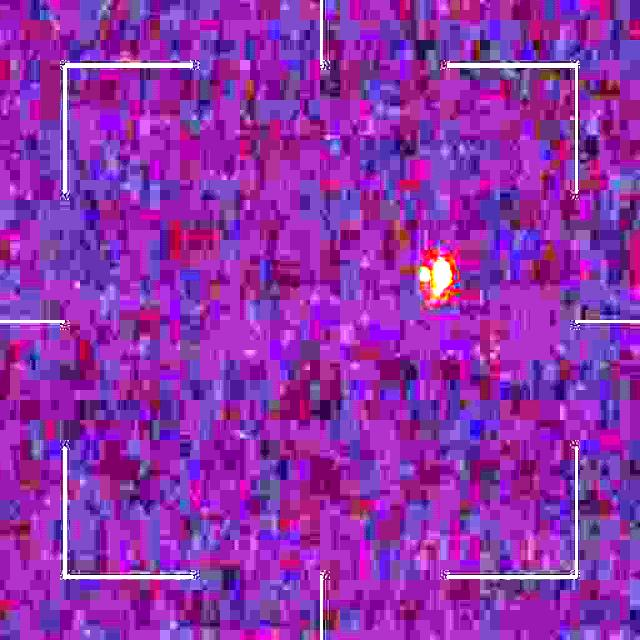bird: (416, 254, 455, 306)
